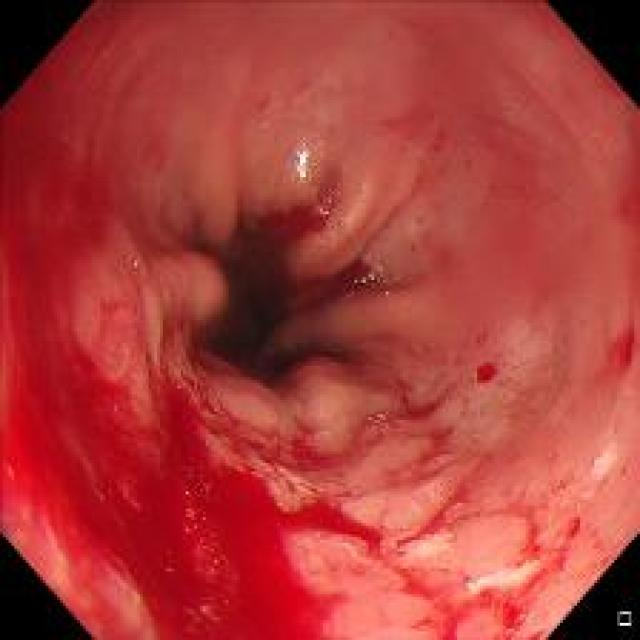blood: (2, 109, 381, 639), (192, 160, 390, 342), (470, 504, 592, 636), (389, 561, 466, 638), (399, 481, 474, 548), (468, 358, 502, 391)
bubbles: (316, 192, 331, 218)
specularity: (290, 148, 312, 180), (351, 275, 378, 288), (315, 202, 325, 214)
